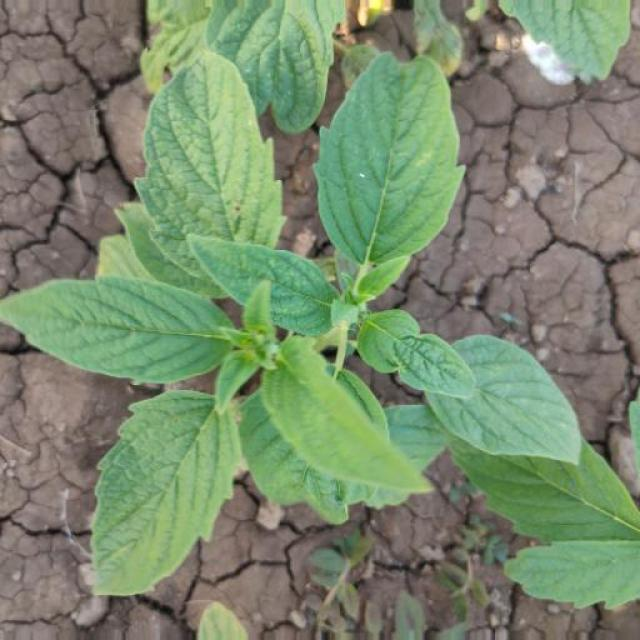crop: (1, 2, 604, 604)
